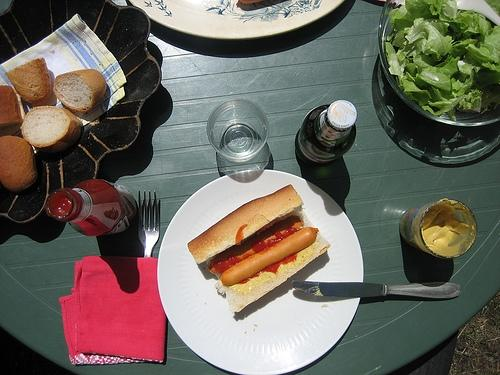lettuce: (405, 20, 454, 62), (456, 68, 500, 97), (468, 26, 500, 63), (420, 66, 453, 92), (438, 9, 477, 30), (450, 63, 473, 92), (448, 38, 478, 59), (424, 0, 444, 18), (440, 57, 460, 74), (413, 60, 429, 74)
